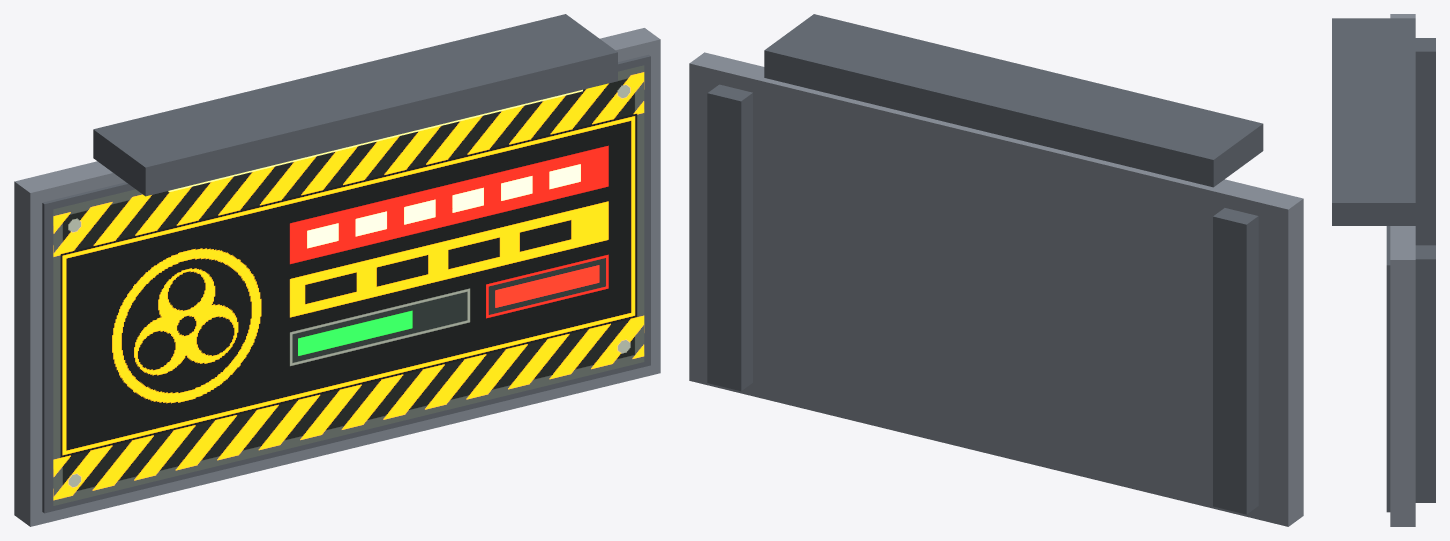
The model's file is wall_biohazard_sign.glb.
3 views of the same model, side by side, from view 1: azimuth 30°, elevation 25°; view 2: azimuth 150°, elevation 25°; view 3: azimuth 270°, elevation 25° (orthographic). The views are drawn at different scales.
Visible parts, largest first — view 1: WallBiohazardSign; view 2: WallBiohazardSign; view 3: WallBiohazardSign.
Boxes of the visible parts, <box> form: WallBiohazardSign: <box>14,14,660,526</box>; WallBiohazardSign: <box>689,14,1303,526</box>; WallBiohazardSign: <box>1332,14,1435,526</box>.
Size of the model in its own units: 3.2 by 1.78 by 0.57.
4 materials, 1 textured.
